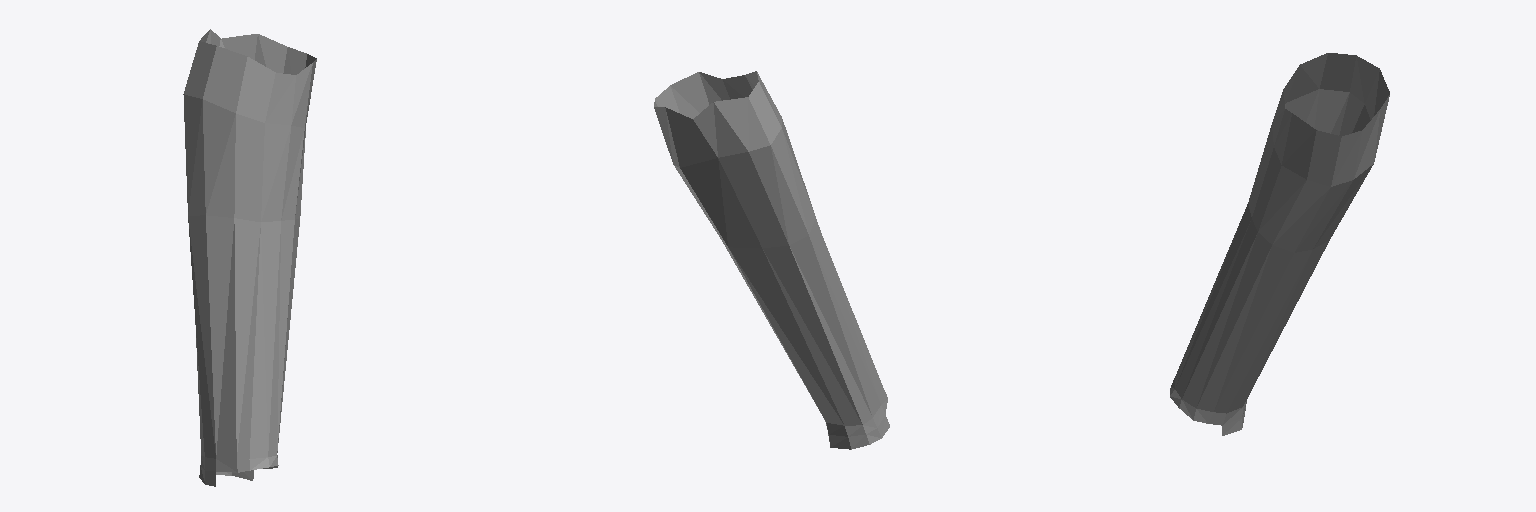
Rendered from leftarms.obj.
3 views of the same model, side by side, from view 1: azimuth 30°, elevation 25°; view 2: azimuth 150°, elevation 25°; view 3: azimuth 270°, elevation 25° (orthographic).
Parts seen in each view (by area): view 1: Patrick.001; view 2: Patrick.001; view 3: Patrick.001.
Part boxes in pixels (x1,y1,x2,y2): Patrick.001: (183,29,316,486); Patrick.001: (654,71,889,449); Patrick.001: (1170,53,1389,435).
Size of the model in its own units: 0.1476 by 0.3363 by 0.1715.